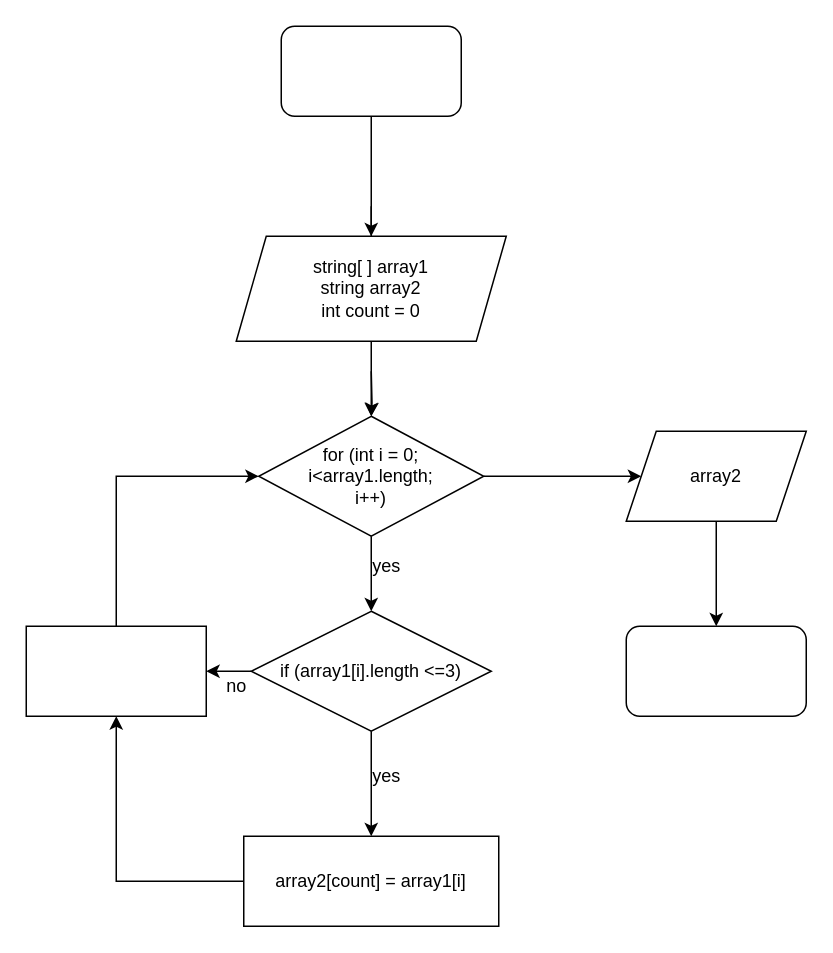
This 833x953 diagram has some shape labels left out. Each missing label, with the centre of its shape:
"count++" belongs at point 115,670.
"End" belongs at point 715,670.
"Start" belongs at point 370,70.
